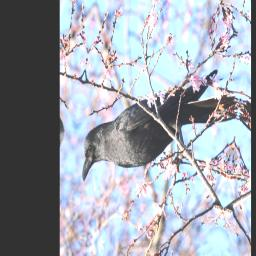Crow: (77, 32, 242, 225)
